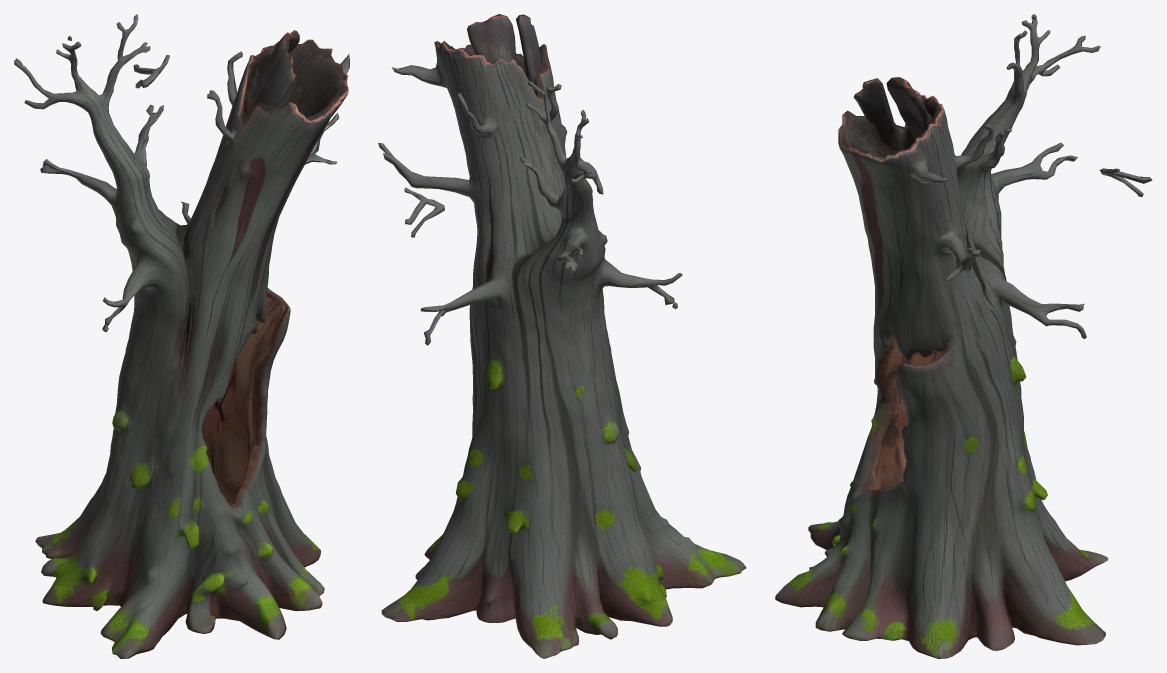
The model's file is forest_tree_hollow_snag.glb.
3 views of the same model, side by side, from view 1: azimuth 30°, elevation 25°; view 2: azimuth 150°, elevation 25°; view 3: azimuth 270°, elevation 25° (orthographic). The views are drawn at different scales.
Size of the model in its own units: 1.09 by 1.91 by 1.17.
Materials: 1 (1 with a texture image).
